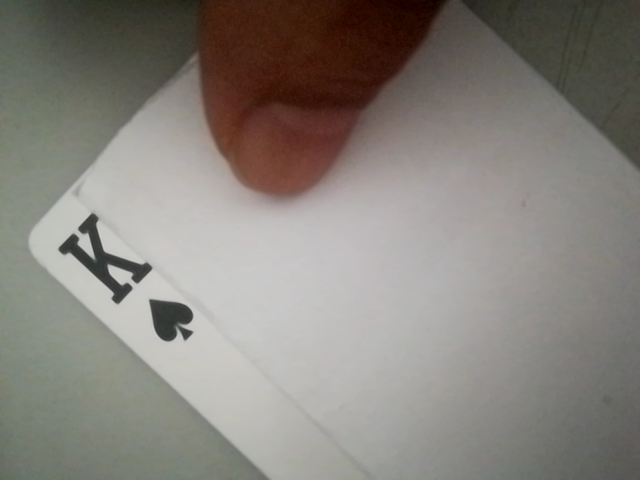ht k: (34, 202, 209, 353)
